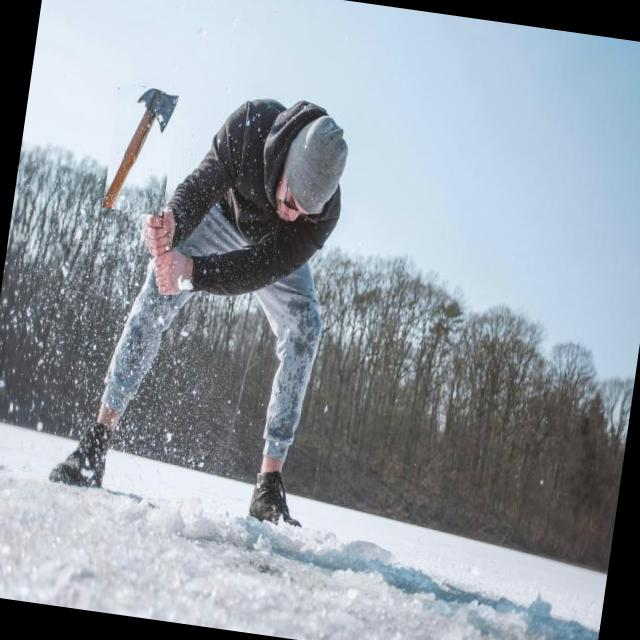Axe: (103, 89, 178, 209)
